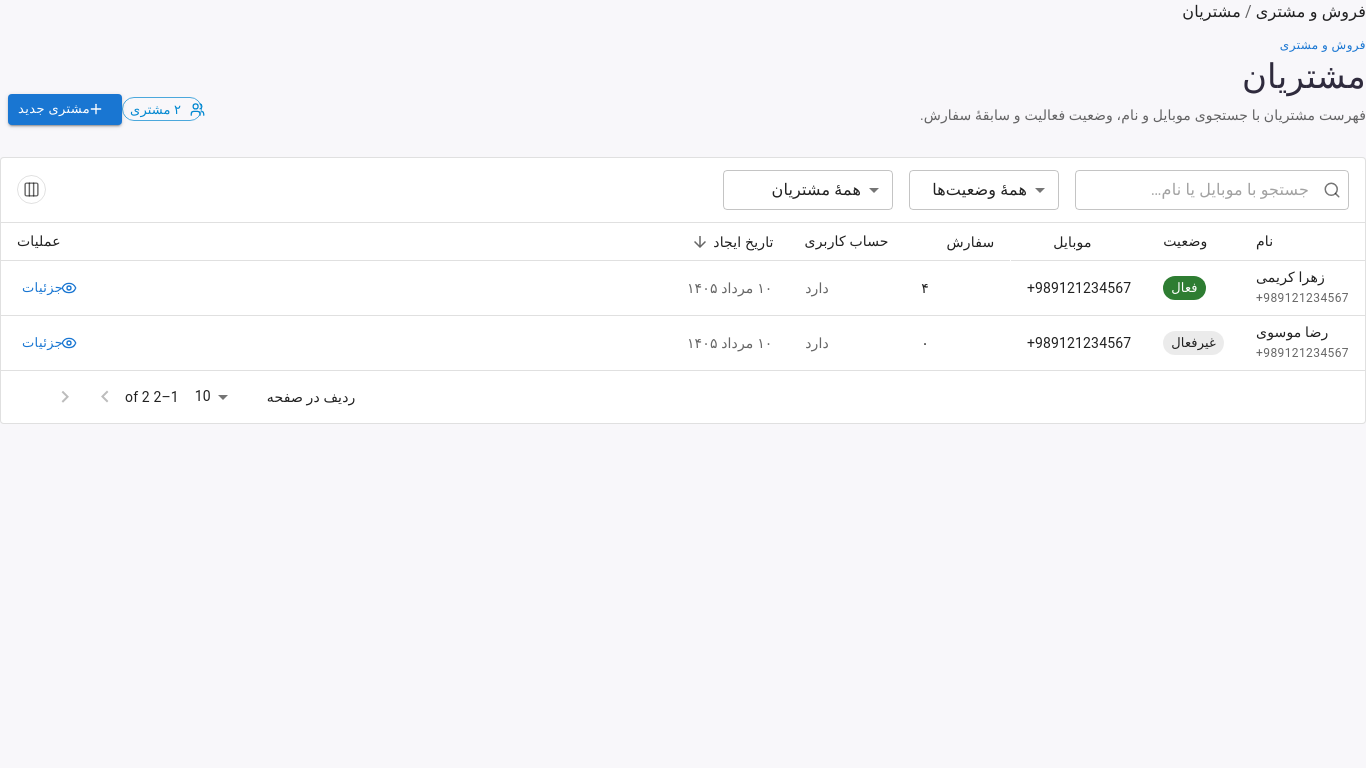
it: CustomersView › surfaces a duplicate-mobile conflict as an actionable message
Expected: the text "زهرا کریمی" is shown, [1256, 269, 1325, 285]
Click the button "مشتری جدید" at (65, 110), box [8, 94, 122, 125]
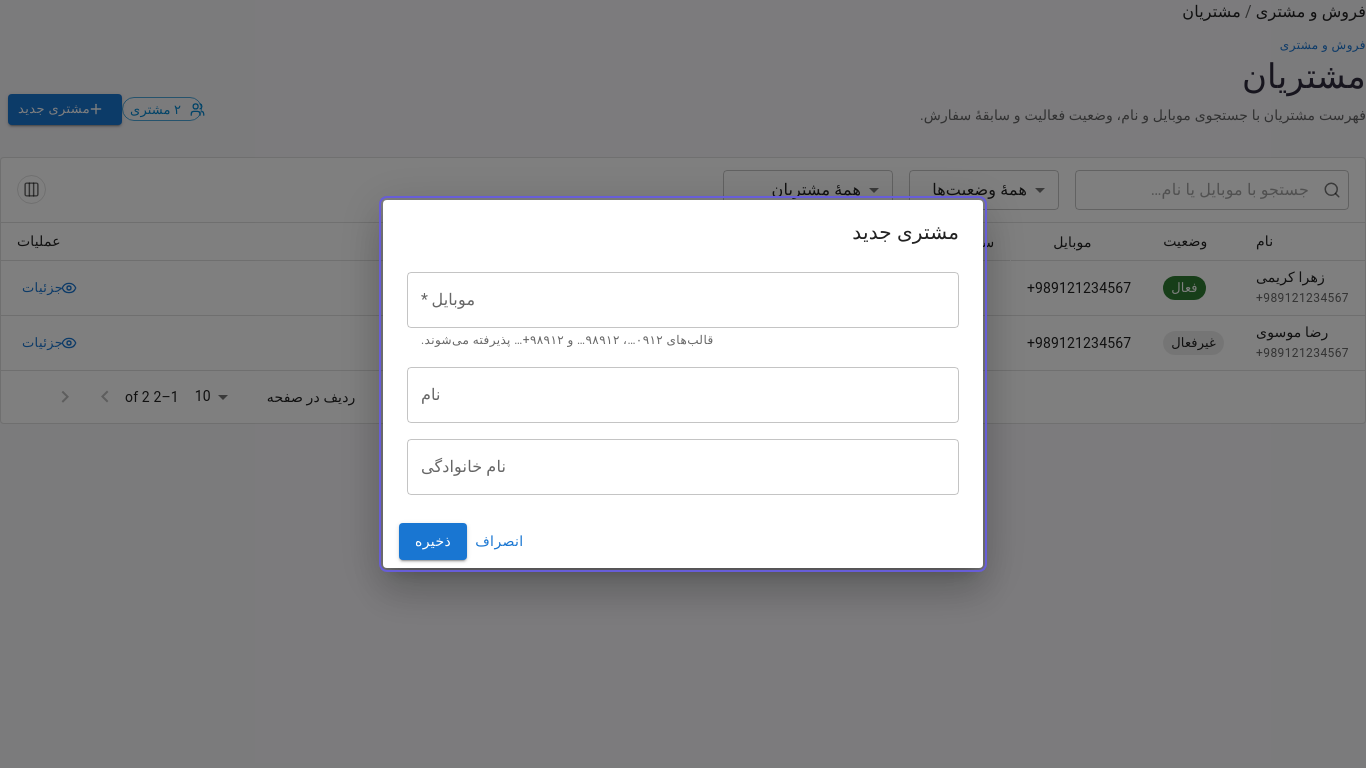
Type "09123456789" into the field labelled "موبایل *" at (683, 300), box [407, 272, 959, 328]
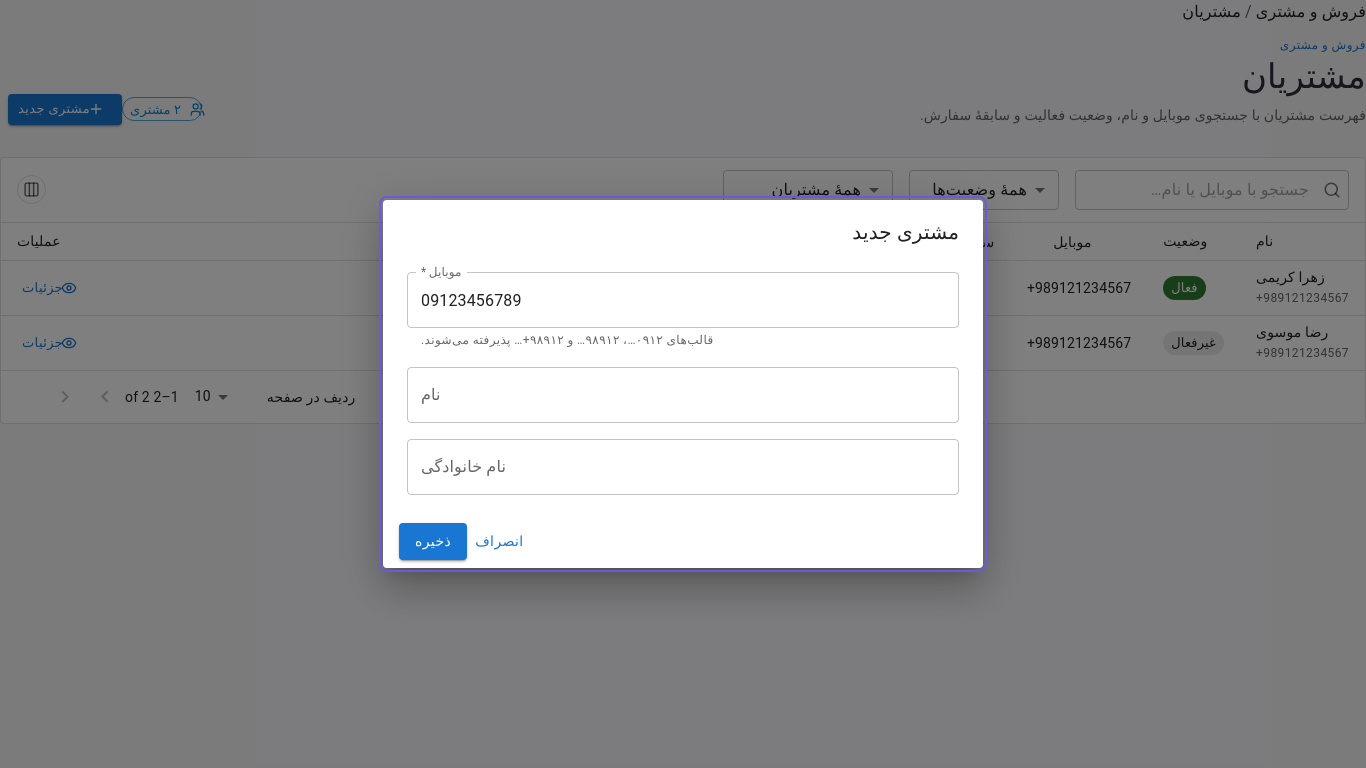
Click the button "ذخیره" at (433, 541), box [399, 523, 467, 560]
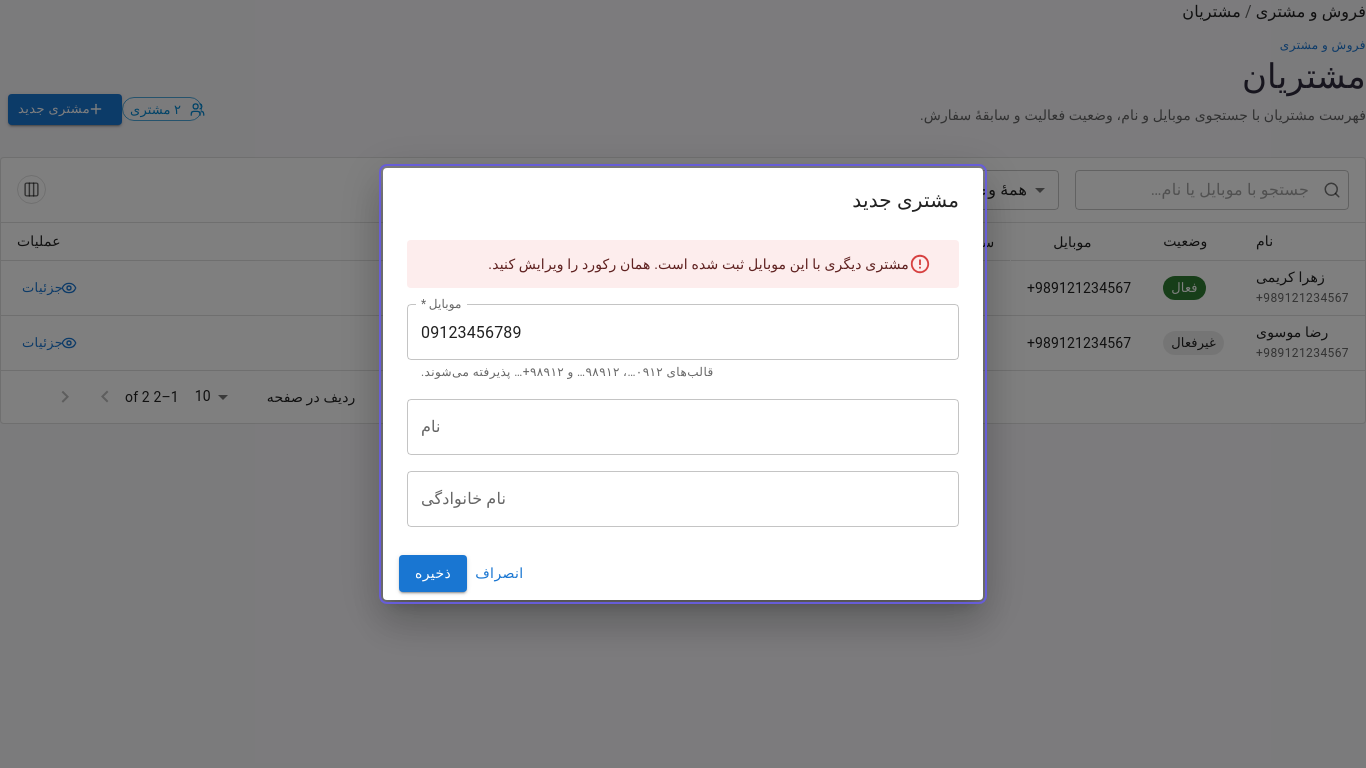
Expected: the text "مشتری دیگری با این موبایل ثبت شده است" is shown, [488, 256, 909, 272]
